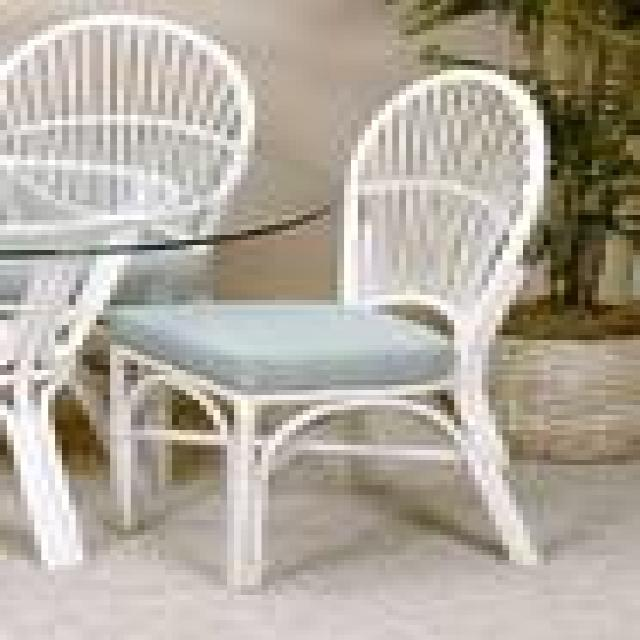chair: (105, 66, 548, 592)
